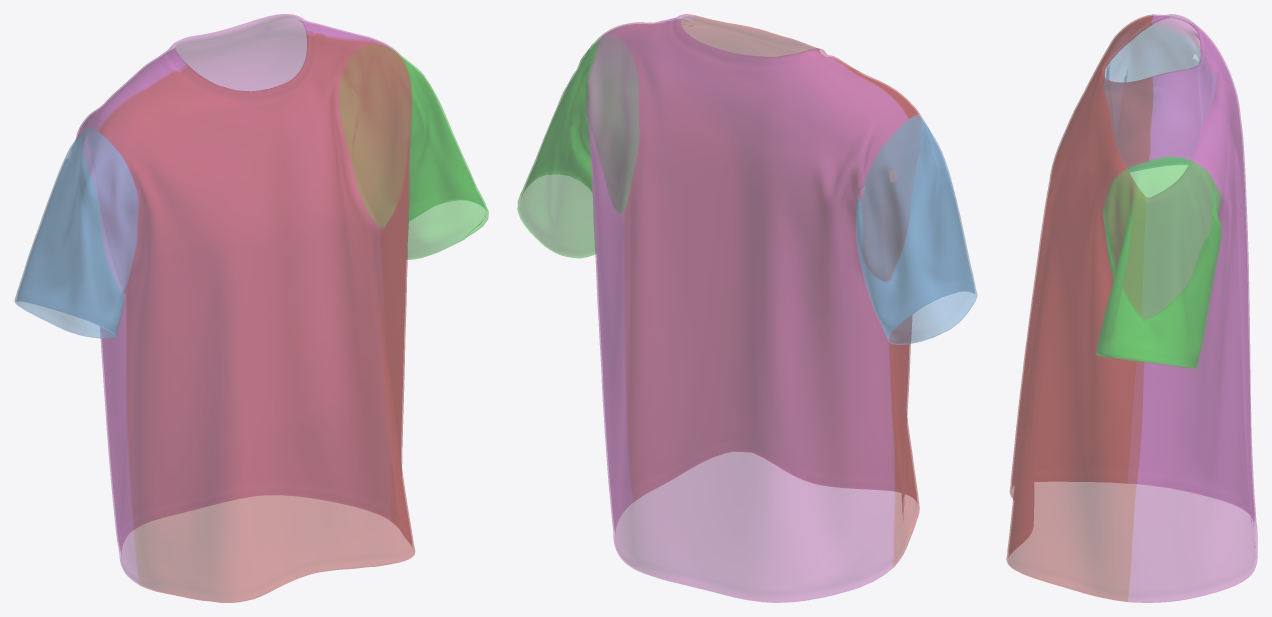
File: OverSize_Revision.glb
The picture shows the model from 3 angles, left to right: view 1: azimuth 30°, elevation 25°; view 2: azimuth 150°, elevation 25°; view 3: azimuth 270°, elevation 25°; orthographic projection. The views are drawn at different scales.
Visible parts, largest first — view 1: Front, Back, LeftHand, RightHand; view 2: Back, Front, RightHand, LeftHand; view 3: Front, Back, LeftHand, RightHand.
Boxes of the visible parts, x1,y1,x2,y2 form: Front: [98, 31, 414, 602]; Back: [75, 14, 393, 584]; LeftHand: [339, 45, 488, 259]; RightHand: [14, 127, 138, 338]; Back: [585, 14, 908, 602]; Front: [605, 15, 921, 567]; RightHand: [855, 114, 977, 344]; LeftHand: [517, 34, 638, 257]; Front: [1006, 14, 1153, 601]; Back: [1128, 14, 1257, 602]; LeftHand: [1096, 157, 1221, 369]; RightHand: [1104, 24, 1215, 172].
Size of the model in its own units: 0.0218 by 0.0243 by 0.011.
